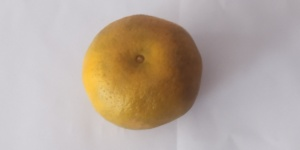BAD: (82, 11, 207, 132)
